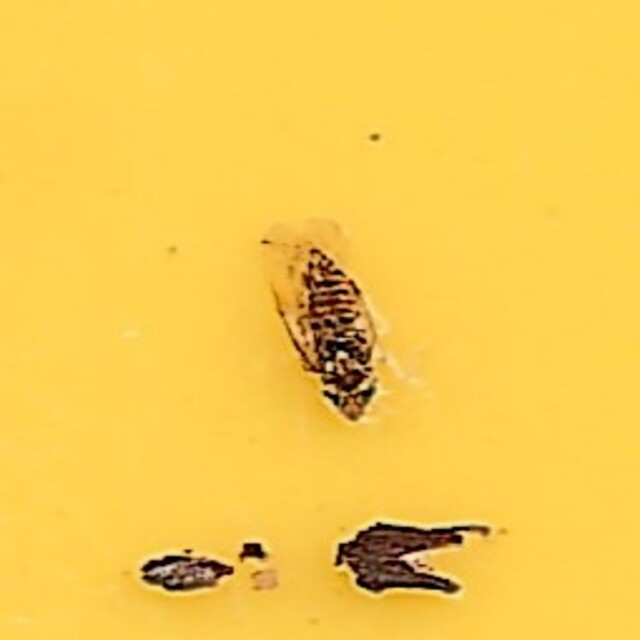Hemiptera: (251, 210, 389, 430)
